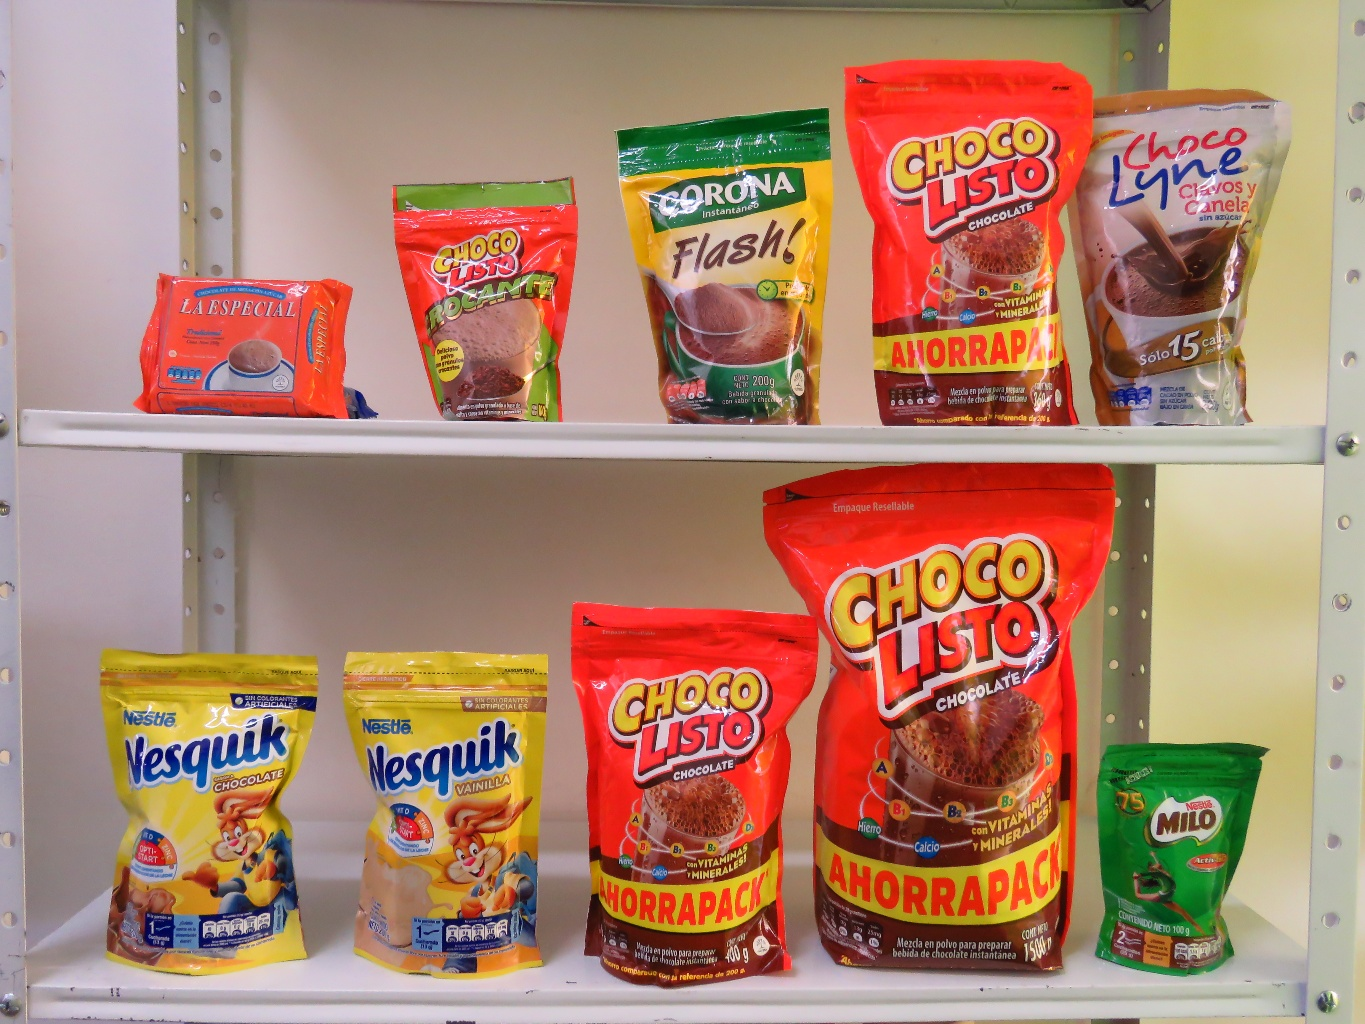COL0170102DYP10000: (388, 172, 585, 432)
COL0170103DYP1,500: (764, 464, 1126, 1002)
COL0170103DYP36000: (837, 48, 1101, 431)
COL0170103DYP40000: (568, 574, 843, 983)
COL0170203DYP10000: (1082, 735, 1267, 975)
COL0170303DYP20000: (99, 646, 331, 979)
COL0170306DYP20000: (347, 650, 564, 980)
